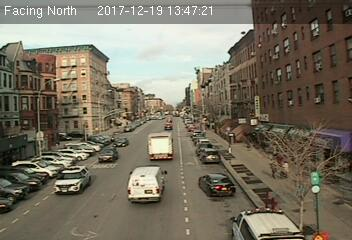car: (199, 175, 237, 196), (98, 148, 118, 163), (200, 148, 220, 163), (113, 137, 128, 145)
police: (228, 206, 306, 240), (53, 165, 91, 195)
truck: (127, 165, 166, 200), (146, 132, 174, 162)
